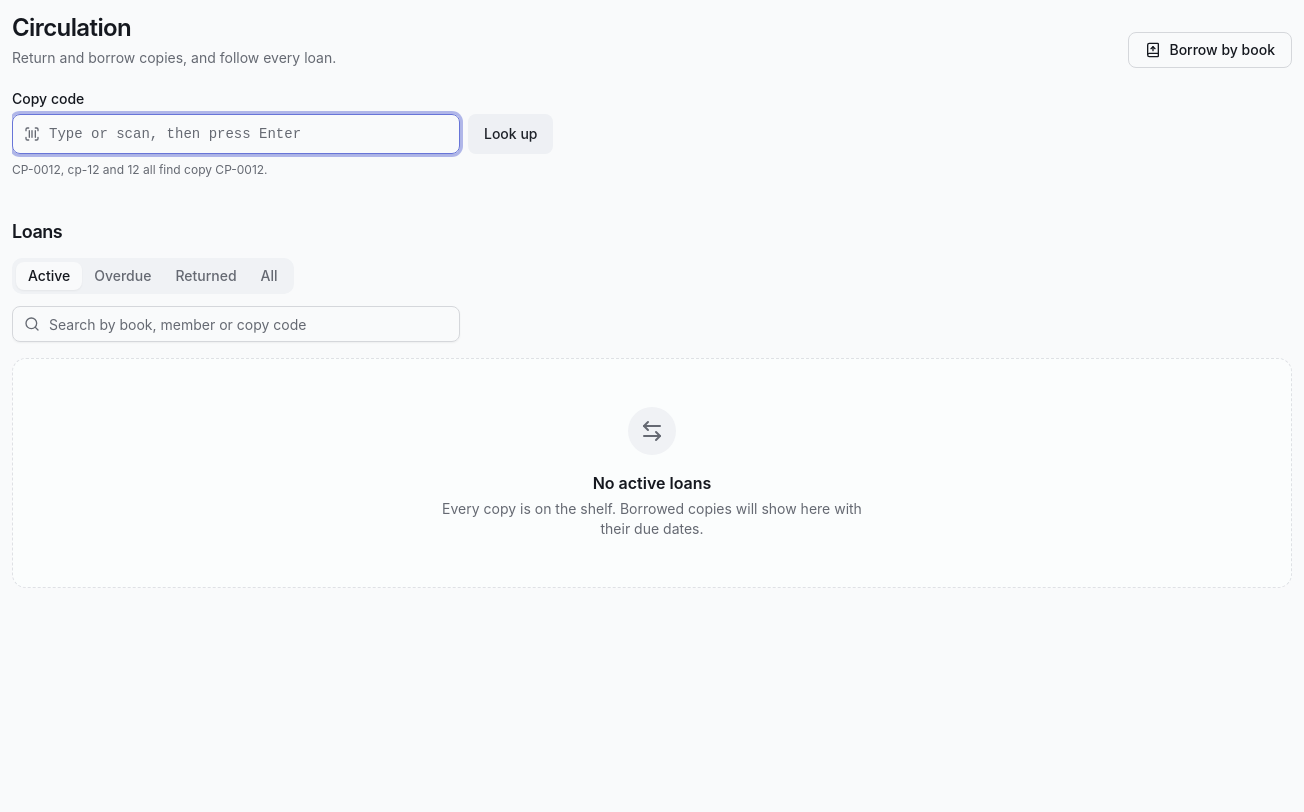
Test case: CirculationPage: the copy-code box › explains text that is not a copy code without asking the API
Type "dune" into the field labelled "Copy code".
click(236, 134); type("dune")  # box [12, 114, 460, 154]
Then press Enter
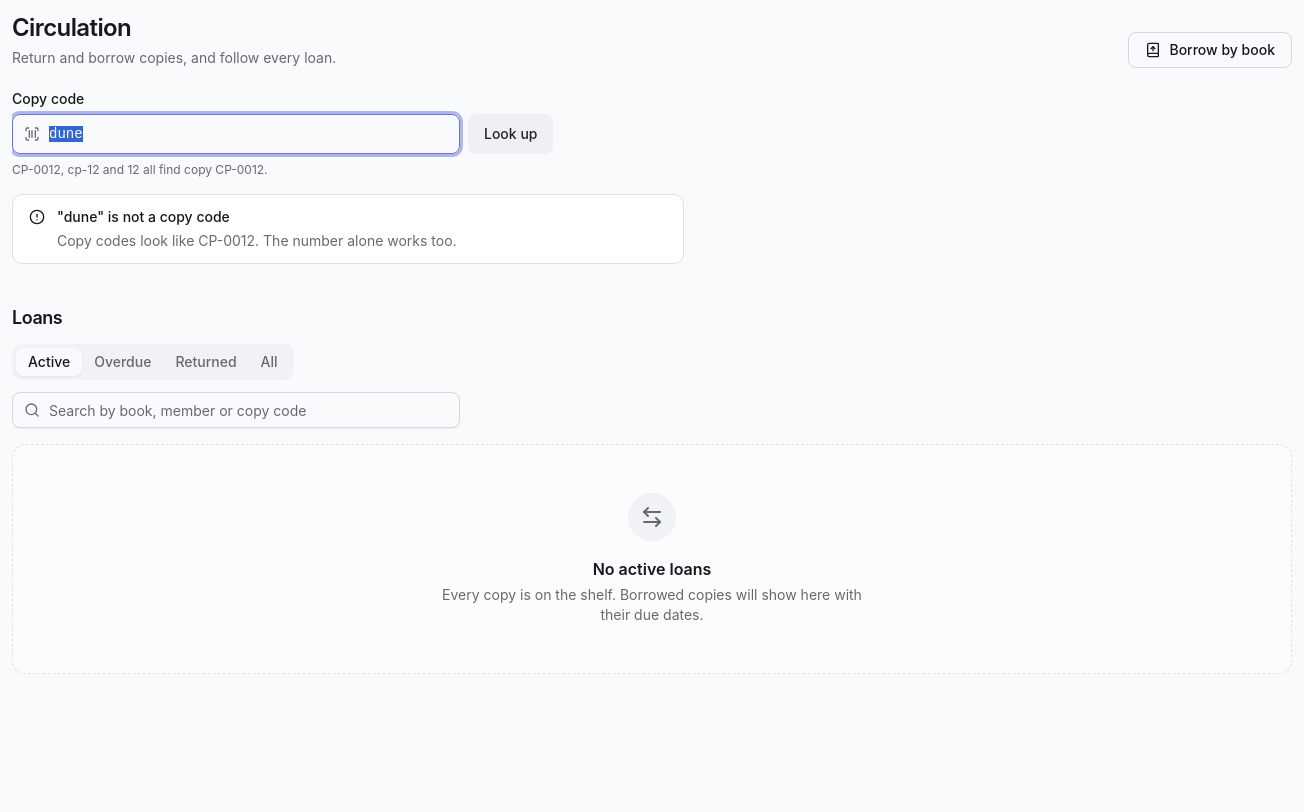
Result: the message shows "\"dune\" is not a copy code" at [57, 208, 230, 225]
